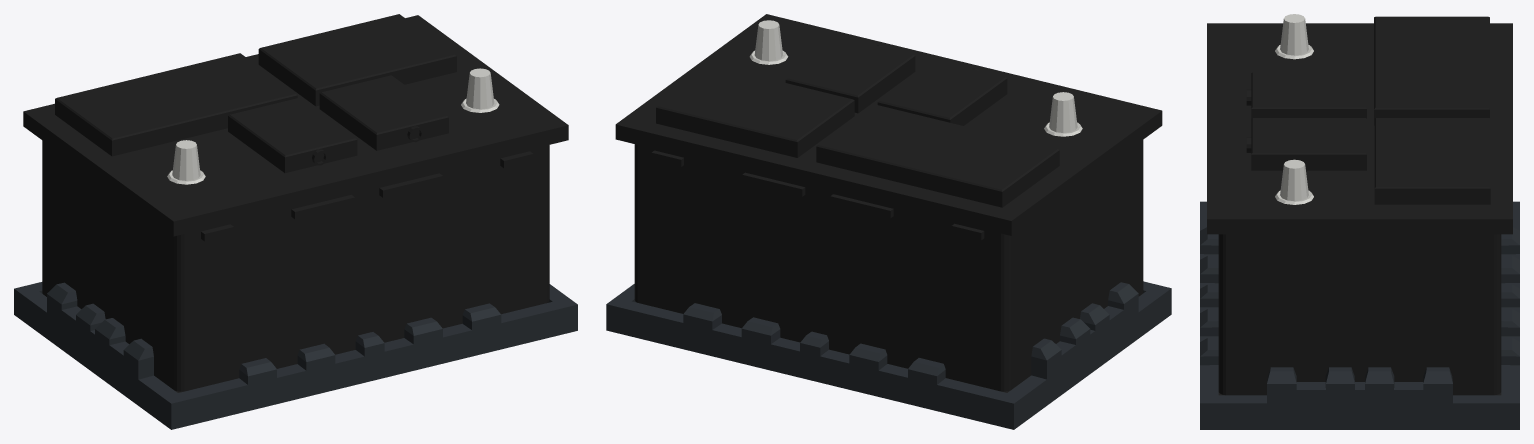
The model's file is SM_carbattery.fbx.
3 views of the same model, side by side, from view 1: azimuth 30°, elevation 25°; view 2: azimuth 150°, elevation 25°; view 3: azimuth 270°, elevation 25° (orthographic).
Parts seen in each view (by area): view 1: carbattery; view 2: carbattery; view 3: carbattery.
Part boxes in pixels (<box>): carbattery: <box>14,14,577,429</box>; carbattery: <box>606,14,1171,429</box>; carbattery: <box>1200,14,1519,429</box>.
Size of the model in its own units: 56.58 by 31.44 by 37.91.
